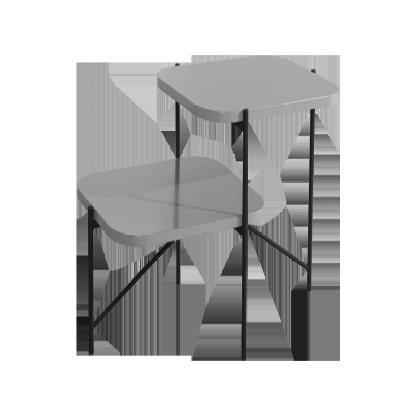table: (76, 50, 342, 360)
